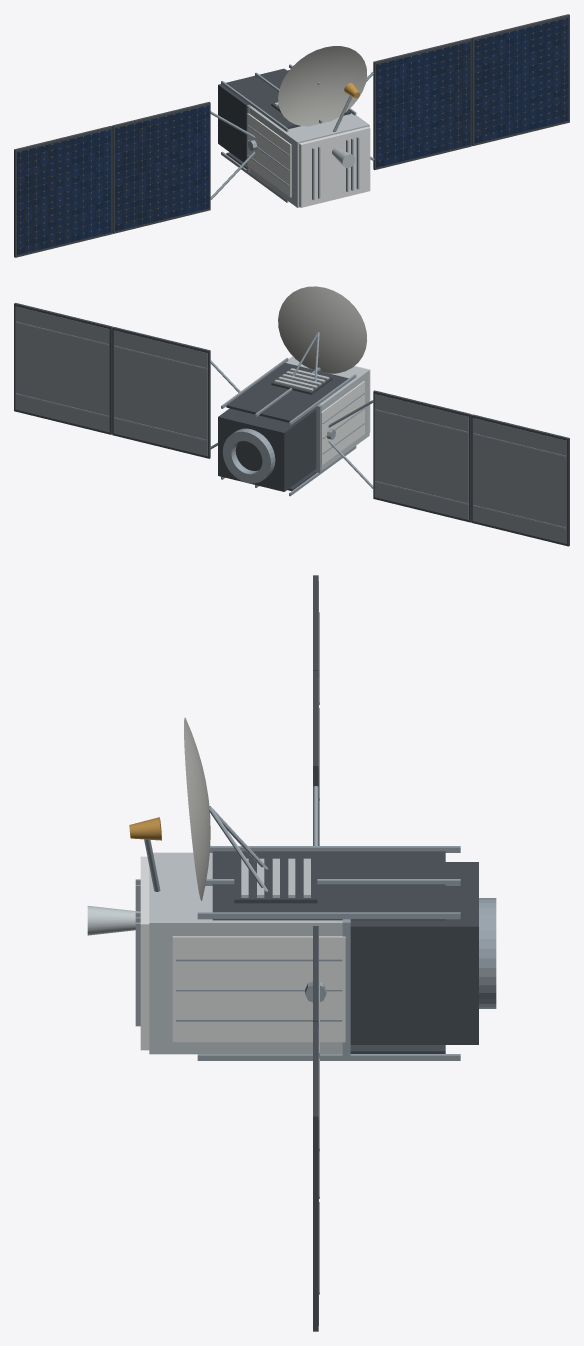
File: amc-short-cband.glb
3 renders of one model, top to bottom at view 1: azimuth 30°, elevation 25°; view 2: azimuth 150°, elevation 25°; view 3: azimuth 270°, elevation 25°, orthographic. The views are drawn at different scales.
Visible parts, largest first — view 1: Solar cell panel (×4), Communications reflector, Solar panel frame (×4), Earth-facing deck, Payload module, Radiator face, Service module, Equipment bay sidewall, Equipment bay longeron; view 2: Rear array substrate (×4), Communications reflector, Service module, Solar panel frame (×4), Equipment bay sidewall, Radiator face, Launch adapter ring, Payload module, Louvre surround, Module interface; view 3: Service module, Radiator face, Payload module, Equipment bay sidewall, Equipment bay longeron (×4), Communications reflector, Louvre surround, Launch adapter ring, Earth-facing deck, Solar panel frame, Payload feed cluster, Module interface.
Boxes of the visible parts, left/top/right/bottom form: Solar cell panel (×4): left=17, top=18, right=568, bottom=255; Communications reflector: left=278, top=46, right=367, bottom=126; Solar panel frame (×4): left=14, top=14, right=569, bottom=257; Earth-facing deck: left=299, top=126, right=370, bottom=207; Payload module: left=249, top=106, right=369, bottom=207; Radiator face: left=247, top=113, right=291, bottom=197; Service module: left=218, top=68, right=286, bottom=164; Equipment bay sidewall: left=228, top=70, right=350, bottom=128; Equipment bay longeron: left=221, top=81, right=288, bottom=131; Rear array substrate (×4): left=15, top=306, right=566, bottom=543; Communications reflector: left=278, top=286, right=366, bottom=373; Service module: left=218, top=408, right=316, bottom=491; Solar panel frame (×4): left=14, top=303, right=569, bottom=546; Equipment bay sidewall: left=226, top=363, right=348, bottom=422; Radiator face: left=321, top=381, right=364, bottom=465; Launch adapter ring: left=222, top=428, right=275, bottom=483; Payload module: left=286, top=356, right=369, bottom=470; Louvre surround: left=271, top=368, right=332, bottom=394; Module interface: left=313, top=404, right=321, bottom=472; Service module: left=350, top=862, right=478, bottom=1044; Radiator face: left=172, top=936, right=345, bottom=1042; Payload module: left=149, top=852, right=342, bottom=1054; Equipment bay sidewall: left=212, top=851, right=445, bottom=920; Equipment bay longeron (×4): left=197, top=846, right=460, bottom=1060; Communications reflector: left=184, top=717, right=210, bottom=900; Louvre surround: left=234, top=860, right=317, bottom=903; Launch adapter ring: left=479, top=898, right=496, bottom=1008; Earth-facing deck: left=140, top=856, right=149, bottom=1050; Solar panel frame: left=313, top=1021, right=318, bottom=1331; Payload feed cluster: left=87, top=906, right=140, bottom=935; Module interface: left=342, top=919, right=350, bottom=1055.
Size of the model in its own units: 14.62 by 4.2 by 4.66.
Materials: 8 (1 with a texture image).
